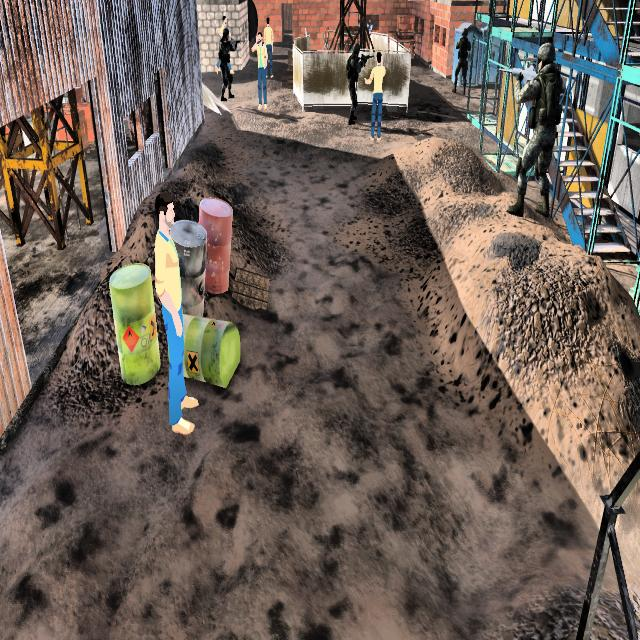bad: (514, 36, 560, 221), (340, 29, 368, 126), (447, 18, 472, 95), (218, 21, 237, 100)
good: (142, 180, 206, 448), (368, 44, 389, 142), (251, 28, 270, 116), (263, 4, 276, 80)
